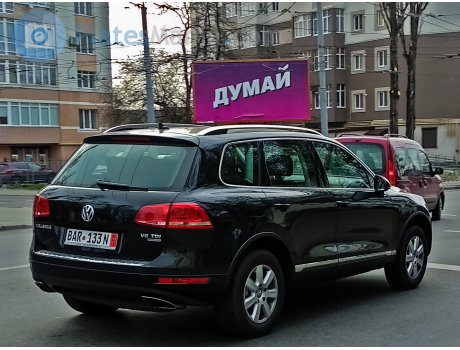License Plates: (65, 228, 114, 245)
